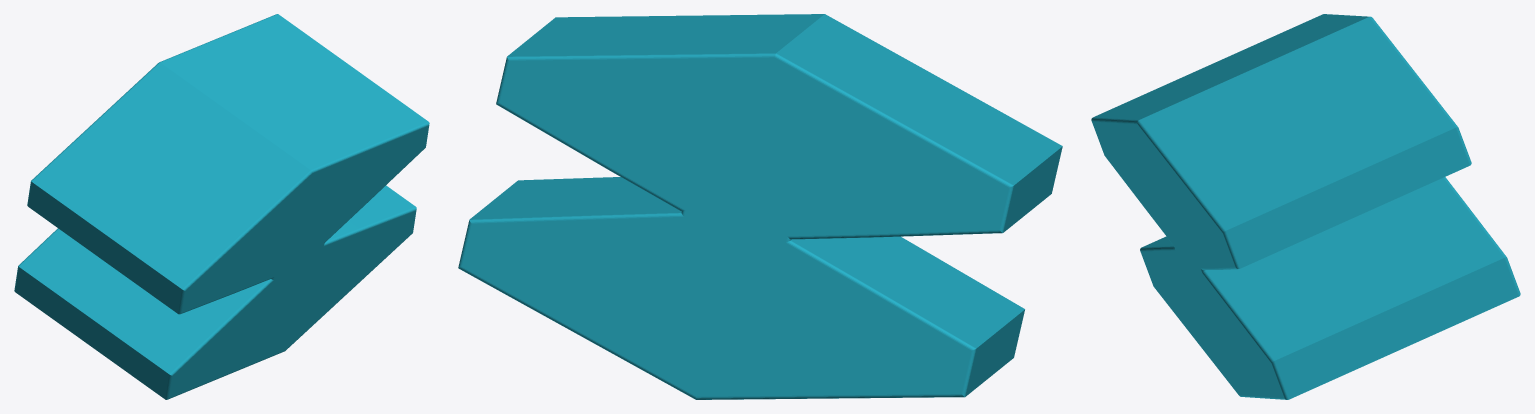
The model's file is LiddWeb.gltf.
The picture shows the model from 3 angles, left to right: view 1: azimuth 30°, elevation 25°; view 2: azimuth 150°, elevation 25°; view 3: azimuth 270°, elevation 25°; orthographic projection. The views are drawn at different scales.
Visible parts, largest first — view 1: Extrude.1; view 2: Extrude.1; view 3: Extrude.1.
Boxes of the visible parts, box(x1,y1,x2,y2) form: Extrude.1: box(14, 14, 429, 399); Extrude.1: box(458, 14, 1062, 399); Extrude.1: box(1091, 14, 1520, 399).
Size of the model in its own units: 24.82 by 17.38 by 20.13.
1 material, 1 textured.
